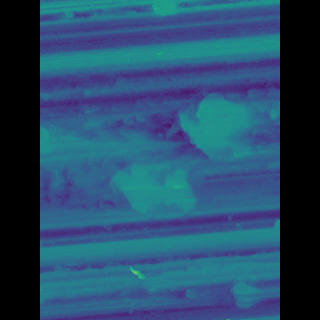Loch: (70, 156, 194, 213), (170, 89, 232, 169)
